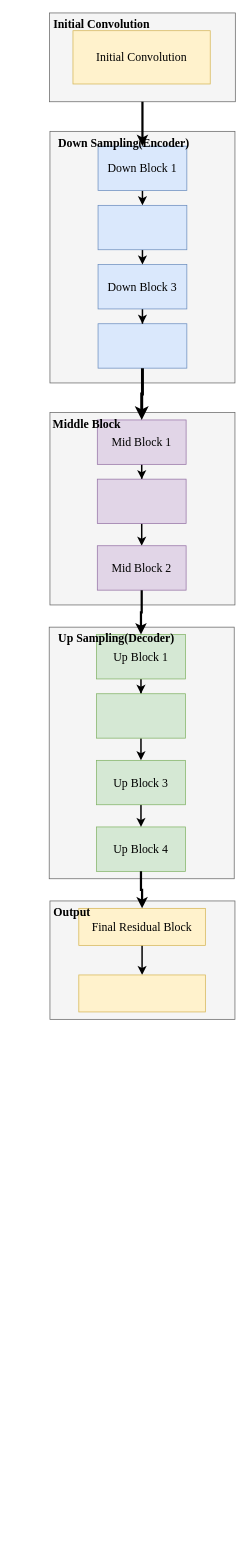
Some shapes in this 248 by 1550 pixel diagram are drawn without their labels. The centre of each missing label's shape, as x and y in pixels:
Down Block 2: (x=142, y=227)
Down Block 4: (x=142, y=345)
Final Convolution: (x=141, y=993)
Mid Attention: (x=141, y=501)
Up Block 2: (x=140, y=715)
